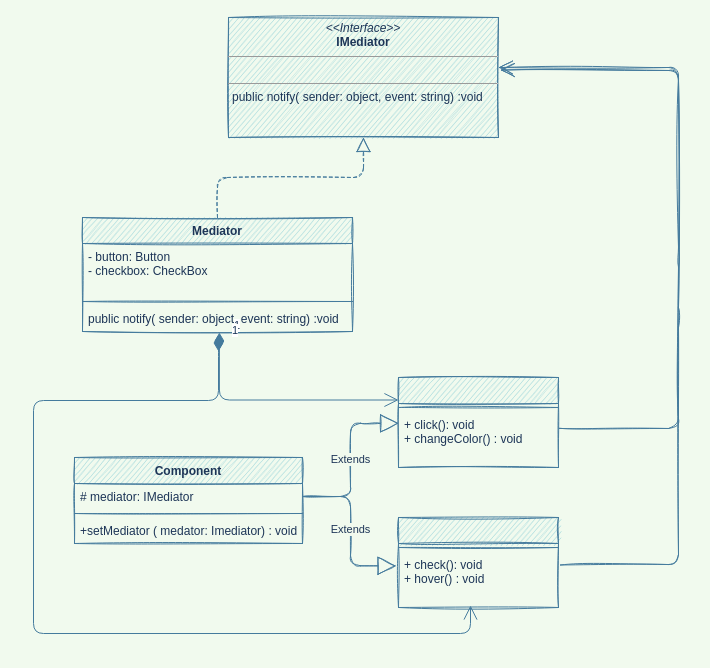
This 710x668 diagram has some shape labels left out. Each missing label, with the box of its shape:
Button: (398, 376, 558, 468)
CheckBox: (398, 516, 558, 608)
